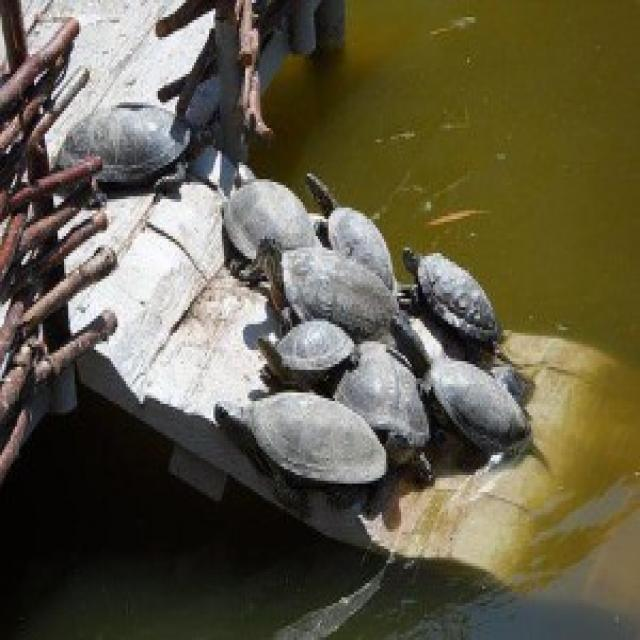Sea turtle: (202, 374, 388, 500), (391, 323, 538, 445), (36, 92, 198, 188), (210, 164, 325, 280), (397, 228, 518, 338), (301, 161, 392, 283)
